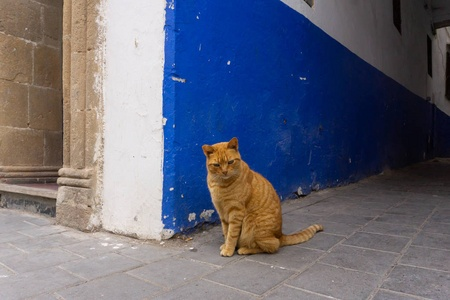cat: (202, 137, 325, 258)
